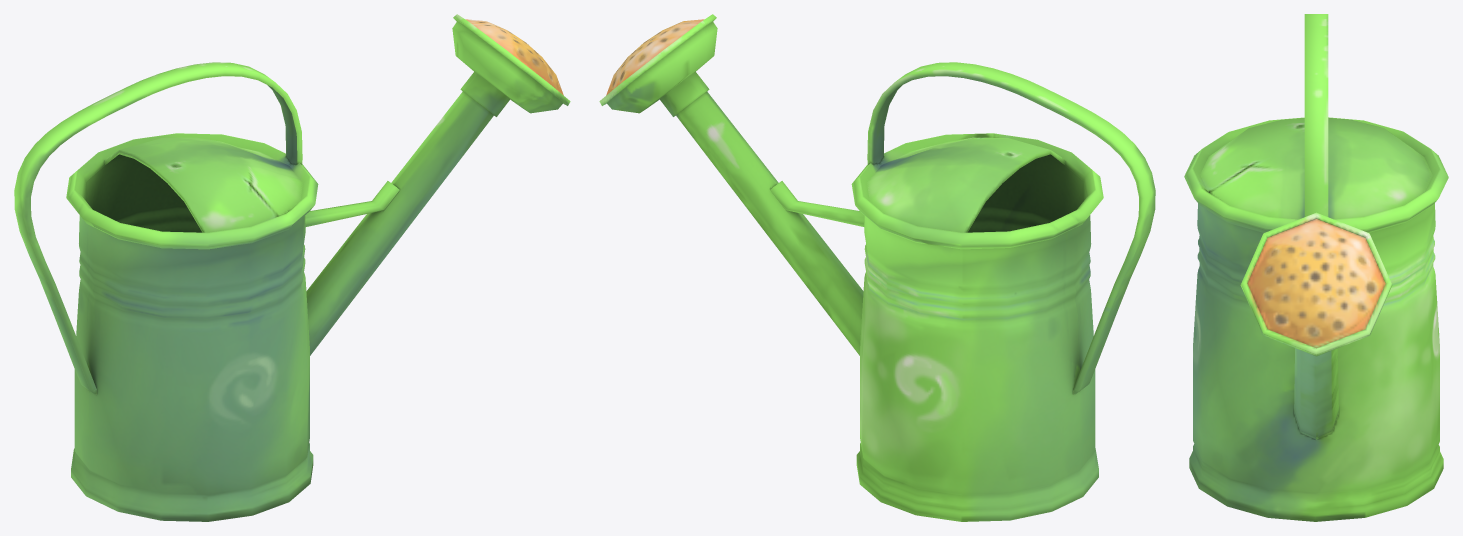
The model's file is watering-can.glb.
The picture shows the model from 3 angles, left to right: view 1: azimuth 30°, elevation 25°; view 2: azimuth 150°, elevation 25°; view 3: azimuth 270°, elevation 25°; orthographic projection. The views are drawn at different scales.
Visible parts, largest first — view 1: watering_can; view 2: watering_can; view 3: watering_can.
Boxes of the visible parts, x1,y1,x2,y2 form: watering_can: (14,14,570,521); watering_can: (599,14,1155,521); watering_can: (1184,14,1448,521).
Bounding box in the file's own units: 4.14 × 2.96 × 1.69.
Materials: 1 (1 with a texture image).
